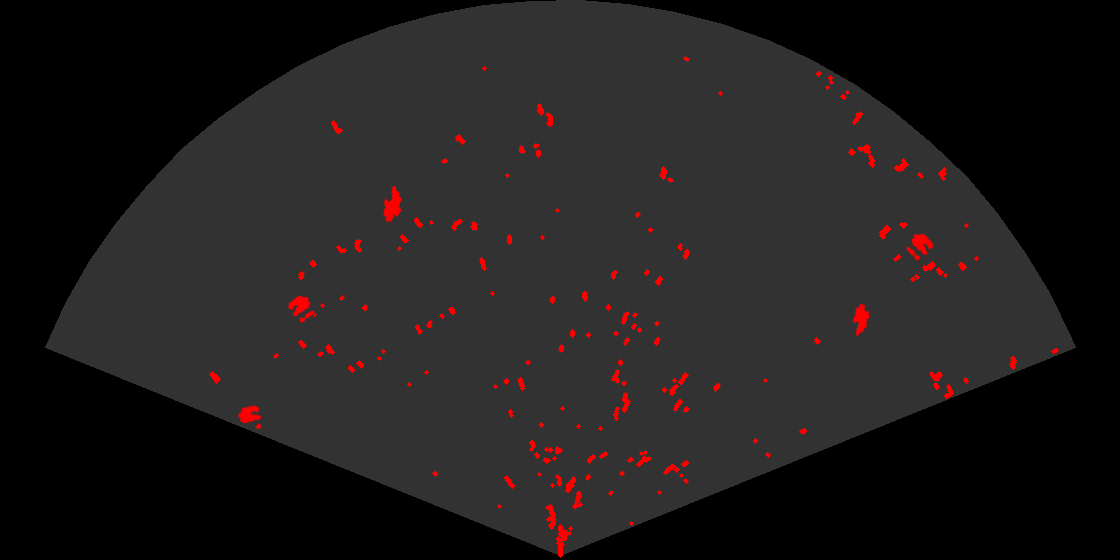AUV: (381, 184, 403, 224), (851, 302, 872, 338)
ball: (286, 294, 316, 324), (905, 232, 935, 262), (236, 404, 264, 431)
